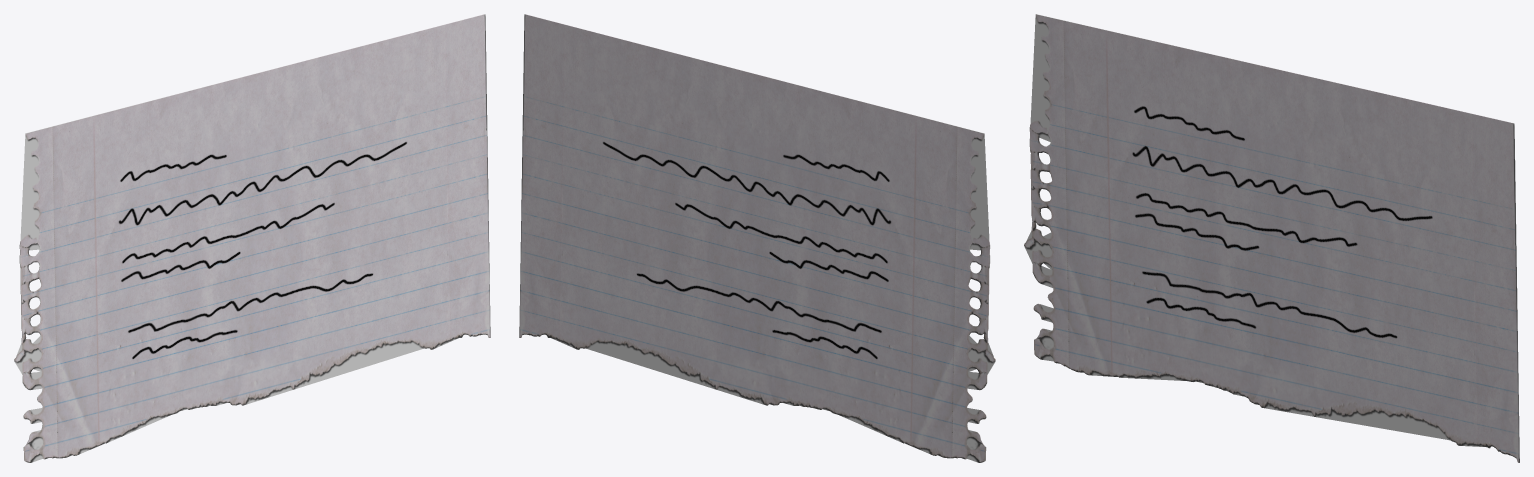
The model's file is KERTASSSS.fbx.
3 views of the same model, side by side, from view 1: azimuth 30°, elevation 25°; view 2: azimuth 150°, elevation 25°; view 3: azimuth 330°, elevation 25° (orthographic). The views are drawn at different scales.
Visible parts, largest first — view 1: 108-1080319_transparent-torn-paper-texture-png-paper-recycle; view 2: 108-1080319_transparent-torn-paper-texture-png-paper-recycle; view 3: 108-1080319_transparent-torn-paper-texture-png-paper-recycle.
Part boxes in pixels (left/top/right/bottom): 108-1080319_transparent-torn-paper-texture-png-paper-recycle: left=14, top=14, right=490, bottom=462; 108-1080319_transparent-torn-paper-texture-png-paper-recycle: left=519, top=14, right=995, bottom=462; 108-1080319_transparent-torn-paper-texture-png-paper-recycle: left=1024, top=14, right=1519, bottom=462.
Bounding box in the file's own units: 121 × 82.95 × 0.13.
Materials: 1 (1 with a texture image).
